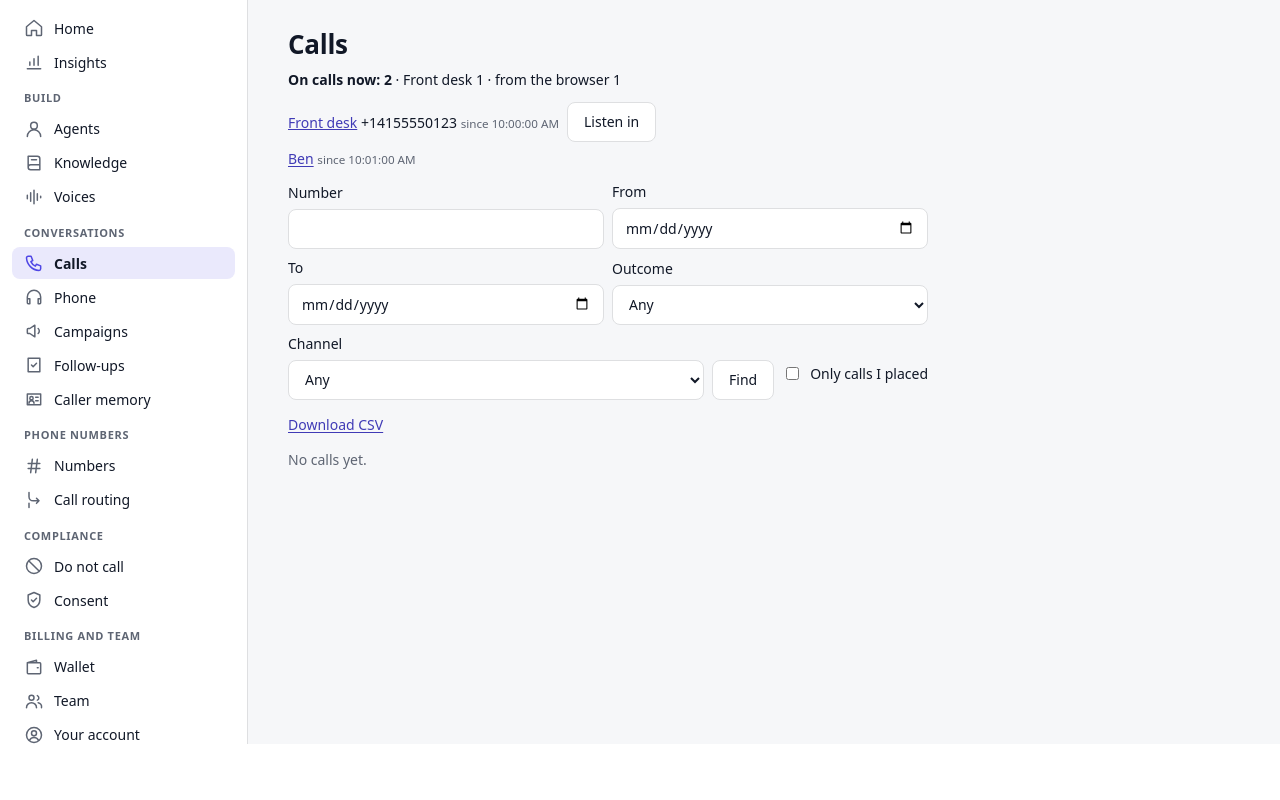
Test case: listening in › shows the backend's refusal and keeps no sound open
What coordinates should you click on to do the following:
click the button "Listen in"
I would click on:
 (612, 122)
Its box is 567,102 -> 656,142.
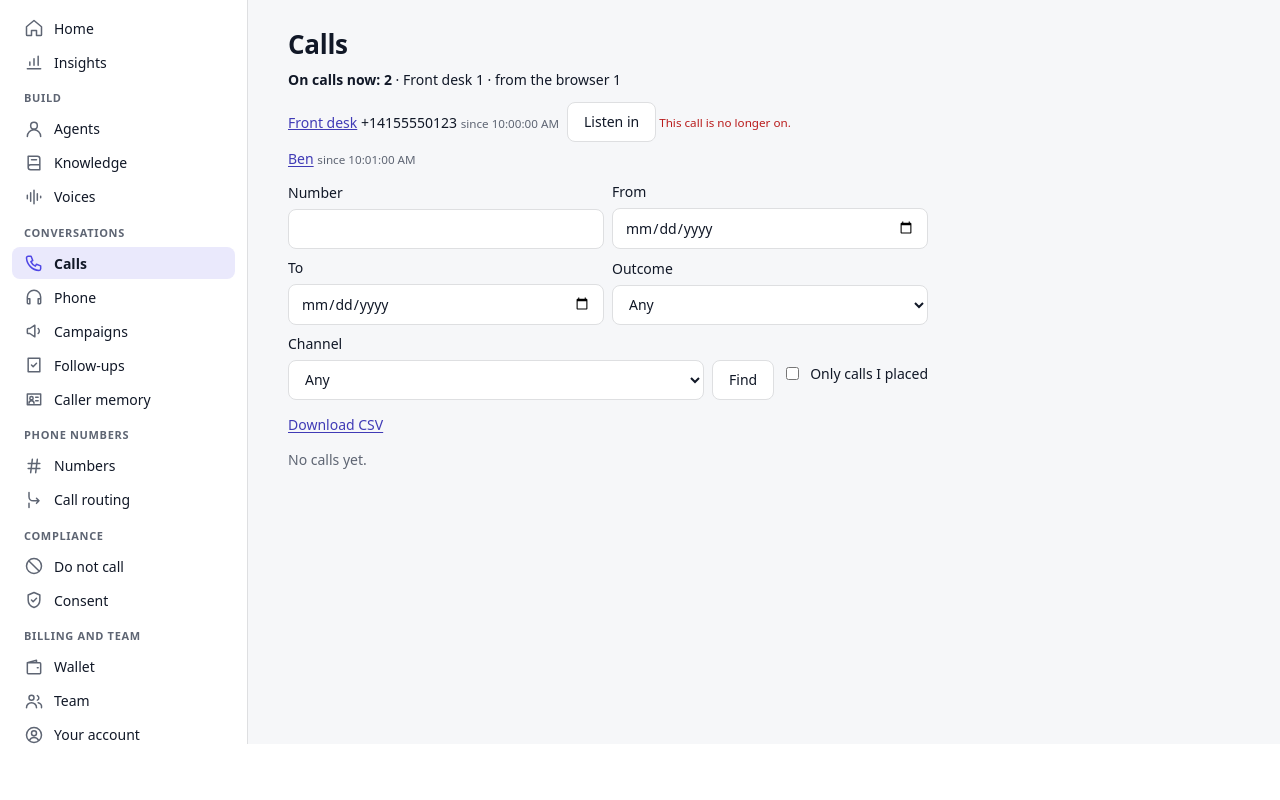
Now the text "This call is no longer on." is shown, box 656,115 -> 791,130
